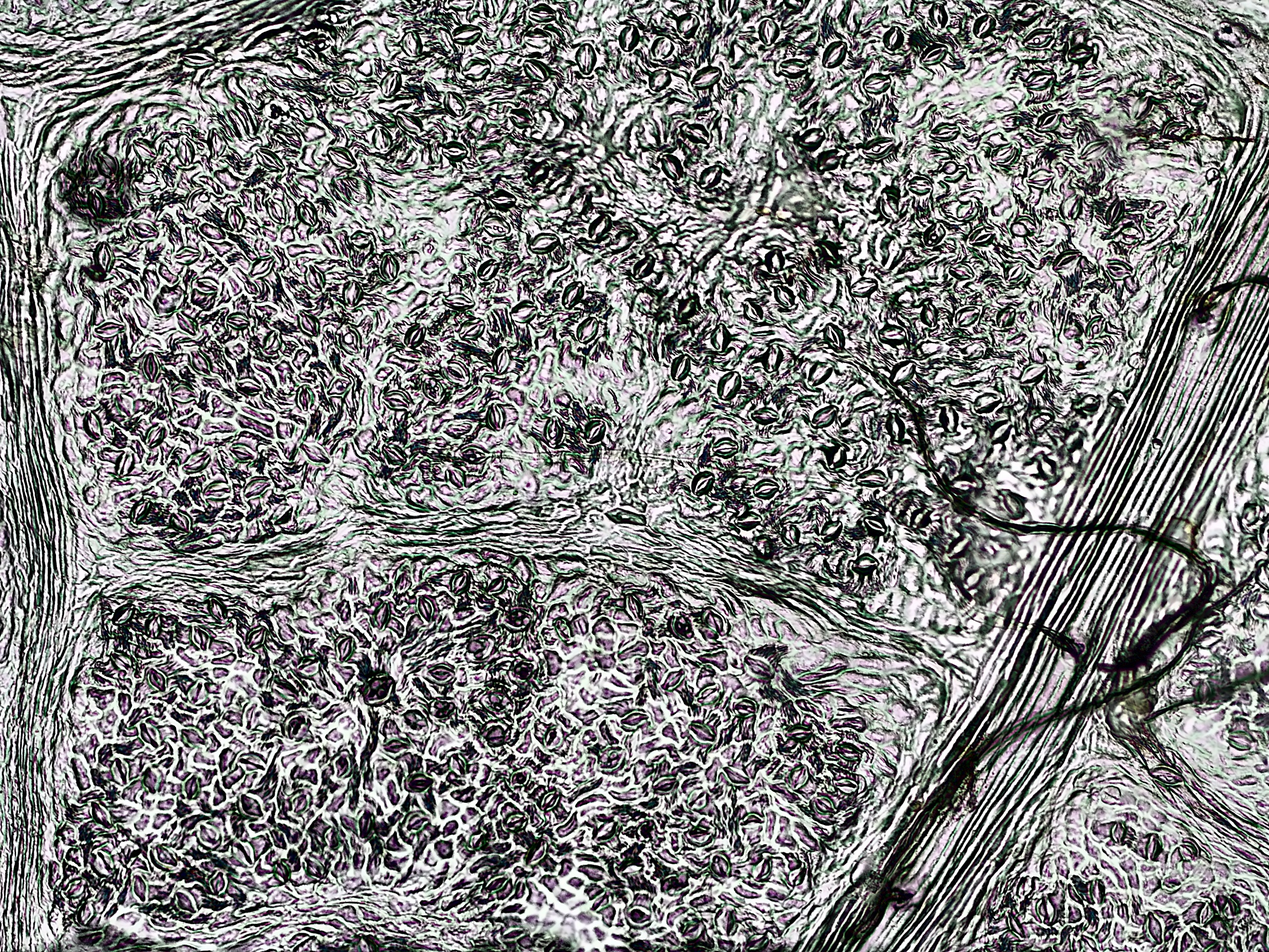stomata: (699, 606, 731, 636), (362, 675, 395, 703), (149, 843, 180, 872), (178, 48, 217, 70), (862, 137, 897, 161), (465, 634, 496, 661), (743, 654, 775, 680), (284, 55, 318, 79), (440, 359, 470, 386), (501, 608, 533, 633), (668, 611, 695, 640), (597, 745, 627, 771), (254, 147, 285, 172), (1143, 911, 1165, 946), (692, 682, 725, 705), (422, 663, 455, 686), (1148, 765, 1184, 786), (817, 239, 842, 269), (621, 591, 643, 625), (326, 146, 357, 170), (659, 665, 686, 692), (522, 59, 550, 85), (616, 708, 649, 730), (509, 299, 538, 324), (576, 42, 597, 76), (966, 224, 997, 247), (761, 343, 784, 374), (889, 359, 916, 385), (509, 657, 537, 682), (297, 309, 321, 338), (1052, 249, 1082, 272), (718, 371, 741, 401), (715, 908, 738, 938), (93, 241, 115, 272), (141, 352, 163, 383), (691, 66, 722, 88), (396, 111, 424, 135), (174, 134, 195, 166), (528, 233, 560, 254), (242, 475, 270, 499), (301, 442, 329, 466), (92, 850, 116, 878), (710, 323, 733, 352), (329, 75, 359, 97), (339, 326, 361, 356), (1022, 27, 1052, 49), (930, 122, 961, 143), (824, 321, 845, 352), (885, 412, 906, 443), (237, 753, 268, 774), (397, 32, 422, 58), (708, 852, 732, 879), (326, 374, 354, 397), (143, 421, 166, 449), (1227, 728, 1255, 751), (207, 128, 227, 160), (93, 318, 125, 338), (462, 59, 491, 81), (266, 195, 288, 224), (481, 215, 510, 237), (381, 389, 410, 411), (380, 69, 401, 99), (1132, 90, 1153, 120), (877, 324, 907, 345), (822, 42, 847, 67), (626, 903, 651, 928), (248, 255, 274, 279), (188, 349, 212, 375), (689, 721, 715, 745), (811, 405, 837, 429), (443, 91, 466, 118), (94, 151, 117, 178), (660, 154, 683, 181), (798, 127, 825, 150), (1036, 109, 1063, 132), (452, 25, 483, 45), (1025, 70, 1056, 90), (732, 511, 763, 531), (372, 125, 394, 153), (130, 219, 158, 241), (303, 264, 325, 292), (489, 189, 517, 211), (562, 281, 584, 309), (849, 276, 877, 298), (1180, 84, 1208, 106), (1019, 363, 1047, 385), (973, 392, 1001, 414), (90, 801, 112, 829), (485, 402, 506, 431), (82, 410, 103, 439), (879, 192, 900, 221), (1104, 259, 1133, 280), (332, 749, 353, 778), (544, 415, 563, 447), (947, 474, 979, 493), (855, 468, 887, 487), (480, 692, 512, 711), (527, 159, 551, 184), (1084, 317, 1109, 341), (415, 595, 435, 625), (372, 601, 392, 631), (403, 322, 426, 348), (817, 149, 843, 172), (231, 841, 254, 867), (458, 317, 485, 339), (1060, 193, 1082, 220), (1161, 120, 1192, 139), (524, 28, 552, 49), (228, 442, 256, 463), (863, 73, 891, 94), (450, 568, 471, 596), (430, 697, 458, 718), (528, 3, 557, 23), (779, 58, 808, 78), (1079, 140, 1108, 160), (919, 298, 939, 327), (443, 293, 475, 311), (550, 617, 574, 641), (130, 499, 153, 524), (809, 361, 832, 386), (923, 221, 946, 246), (691, 471, 714, 496), (341, 280, 363, 306), (589, 214, 611, 240), (577, 317, 599, 343), (184, 451, 210, 473), (1002, 492, 1024, 518), (459, 446, 489, 465), (784, 723, 814, 742), (297, 199, 318, 226), (510, 107, 537, 128), (610, 230, 637, 251), (204, 480, 231, 501), (618, 24, 639, 51), (758, 19, 779, 46), (1027, 169, 1054, 190), (731, 697, 758, 718), (712, 437, 739, 458), (526, 838, 547, 865), (483, 873, 510, 894), (191, 624, 212, 651), (953, 306, 981, 326), (1195, 630, 1223, 650), (1006, 913, 1026, 941), (698, 166, 722, 189), (651, 37, 675, 60), (676, 295, 699, 319), (303, 856, 326, 880), (380, 253, 399, 282), (111, 757, 130, 786), (132, 138, 157, 160), (677, 13, 699, 38), (199, 222, 225, 243), (441, 141, 467, 162), (634, 254, 655, 280), (683, 123, 709, 144), (990, 142, 1016, 163), (1036, 454, 1057, 480), (788, 764, 809, 790), (187, 679, 208, 705), (87, 190, 105, 220), (174, 246, 201, 266), (491, 347, 511, 374), (920, 44, 947, 64), (929, 2, 949, 29), (1105, 199, 1125, 226), (1035, 896, 1055, 923), (851, 554, 878, 574), (169, 510, 192, 533), (820, 520, 843, 543), (682, 919, 705, 942), (176, 312, 198, 336), (974, 14, 996, 38), (1005, 260, 1027, 284), (113, 602, 135, 626), (246, 626, 268, 650), (171, 382, 196, 403), (382, 444, 407, 465), (1242, 504, 1263, 529), (175, 889, 196, 914), (1145, 833, 1163, 862), (226, 206, 246, 232), (193, 276, 219, 296), (423, 377, 443, 403), (906, 176, 932, 196), (671, 354, 691, 380), (296, 656, 322, 676), (584, 420, 606, 443), (648, 69, 670, 92), (990, 419, 1012, 442), (241, 794, 263, 817), (197, 824, 220, 846), (1067, 44, 1095, 62), (750, 407, 778, 425), (948, 262, 976, 280), (752, 533, 773, 557), (290, 791, 311, 815), (138, 723, 159, 747), (765, 249, 785, 274), (812, 795, 837, 815), (543, 724, 563, 749), (754, 480, 779, 500), (235, 377, 261, 396), (724, 765, 750, 784), (324, 6, 351, 24), (1073, 394, 1100, 412), (1089, 878, 1107, 905), (910, 507, 932, 529), (477, 259, 500, 280), (956, 200, 979, 221), (688, 788, 709, 811), (288, 715, 309, 738), (775, 284, 795, 308), (883, 26, 903, 50), (502, 812, 526, 832), (405, 812, 429, 832), (77, 901, 97, 925), (941, 404, 958, 432), (617, 858, 645, 875), (296, 386, 315, 411), (115, 452, 134, 477), (752, 855, 771, 880), (652, 774, 677, 793), (209, 870, 228, 895), (1117, 227, 1143, 245), (836, 743, 862, 761), (995, 306, 1016, 328), (540, 789, 561, 811), (864, 516, 887, 536), (485, 575, 508, 595), (337, 636, 354, 663), (132, 875, 149, 902), (827, 445, 846, 469), (272, 860, 291, 884), (208, 596, 227, 620), (644, 747, 669, 765), (1196, 679, 1213, 705), (263, 330, 283, 352), (1099, 785, 1121, 805), (467, 829, 487, 851), (447, 466, 466, 489), (449, 752, 468, 775), (835, 777, 859, 795), (508, 768, 532, 786), (402, 710, 426, 728), (740, 811, 765, 828), (408, 774, 433, 791), (781, 525, 801, 546), (595, 820, 617, 839), (148, 668, 167, 690), (303, 36, 329, 52), (226, 312, 249, 330), (746, 934, 769, 952), (325, 827, 342, 851), (1107, 389, 1127, 409), (1198, 901, 1214, 926), (145, 612, 161, 637), (183, 774, 199, 799), (1179, 841, 1198, 862), (351, 230, 373, 248), (110, 652, 132, 670), (359, 809, 373, 837), (689, 826, 712, 843), (745, 301, 763, 322), (1110, 821, 1127, 843), (383, 739, 409, 753), (488, 725, 506, 745), (789, 867, 807, 885)
